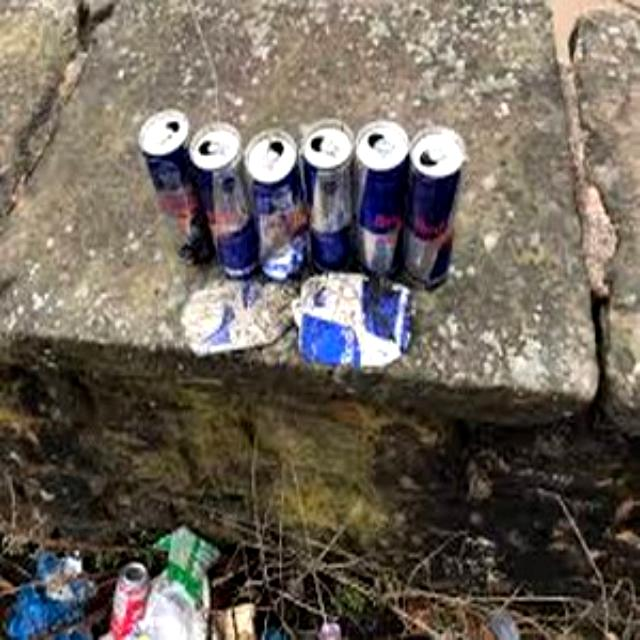Metal: (294, 265, 418, 373), (200, 126, 264, 280), (137, 109, 197, 271), (408, 120, 468, 274), (178, 277, 298, 353), (358, 118, 414, 272), (250, 126, 306, 270), (308, 118, 358, 270)
